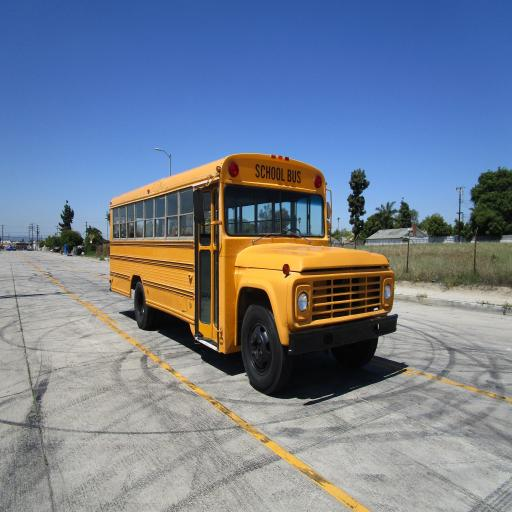bus: (110, 153, 397, 393)
